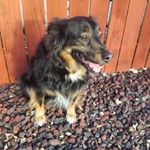puppy: (21, 12, 118, 131)
